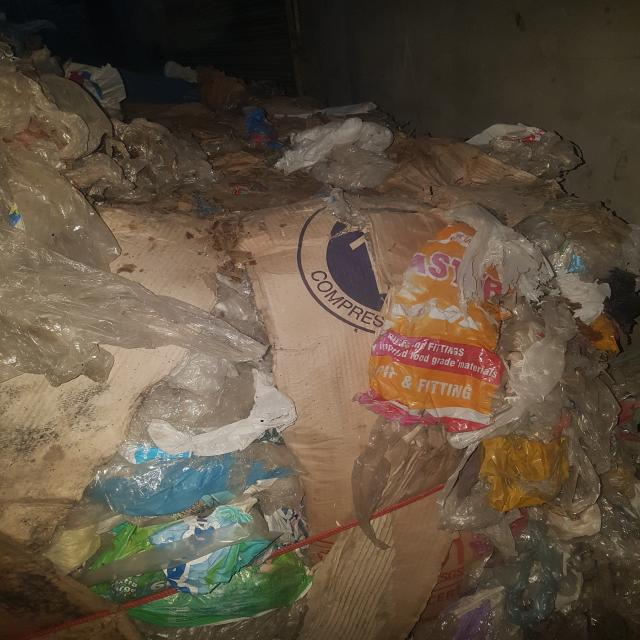electronic: (355, 220, 511, 433), (88, 504, 319, 624)
